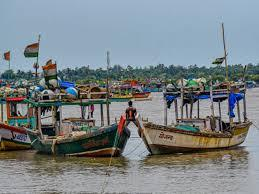fishing boat: (137, 22, 253, 157), (28, 75, 132, 158), (0, 82, 97, 153)
